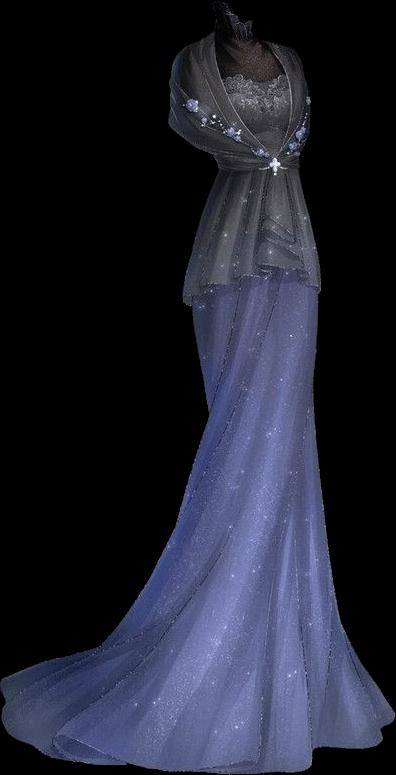Bodice: (169, 2, 310, 173)
Hemline: (0, 680, 395, 774), (184, 216, 319, 307)
Neckline: (210, 31, 293, 166), (213, 0, 257, 29), (218, 73, 288, 88)
Skirt: (0, 169, 394, 773)
Waistline: (215, 163, 301, 183)
